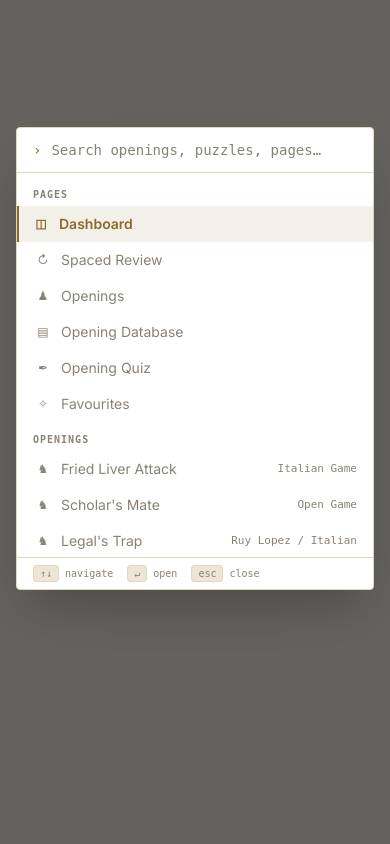
it: CommandPalette › filters results as you type
Type "fried liver" into the dropdown with placeholder "Search openings, puzzles, pages…".
click(204, 150); type("fried liver")  # box left=51, top=140, right=357, bottom=160
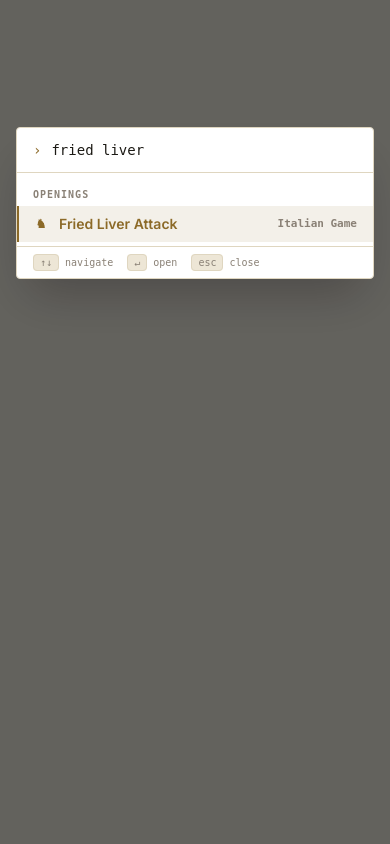
Expected: the text "Openings" is shown, left=33, top=189, right=89, bottom=200
Expected: the option "Dashboard" is gone
